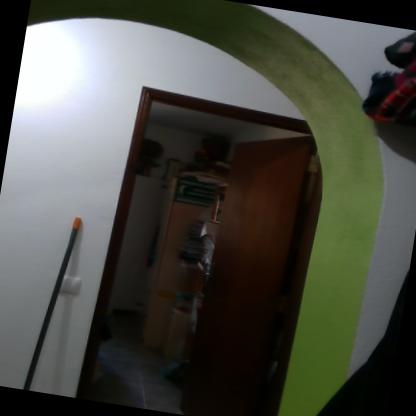open: (74, 52, 379, 415)
